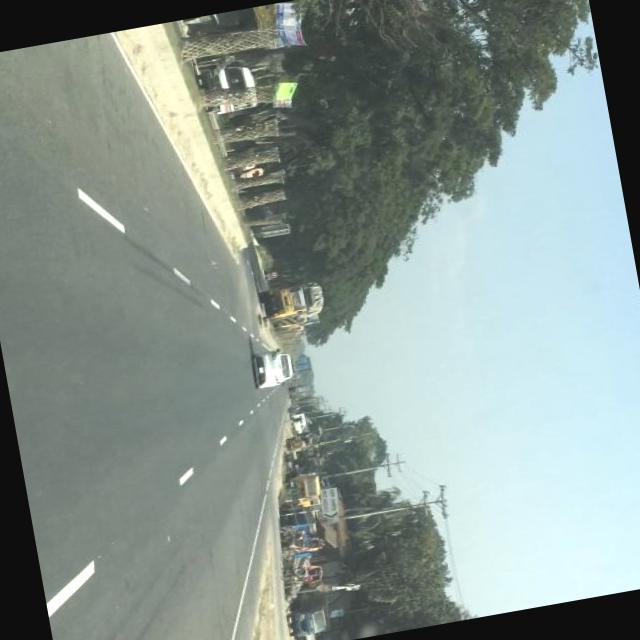bus: (196, 61, 261, 116)
car: (250, 347, 298, 392)
motorcycle: (276, 520, 329, 560), (278, 560, 328, 590), (234, 164, 266, 182), (286, 437, 308, 452), (266, 270, 282, 280)
truck: (284, 595, 336, 640), (260, 284, 312, 326), (286, 464, 326, 502), (289, 383, 314, 402), (292, 411, 310, 436), (294, 356, 316, 373)
